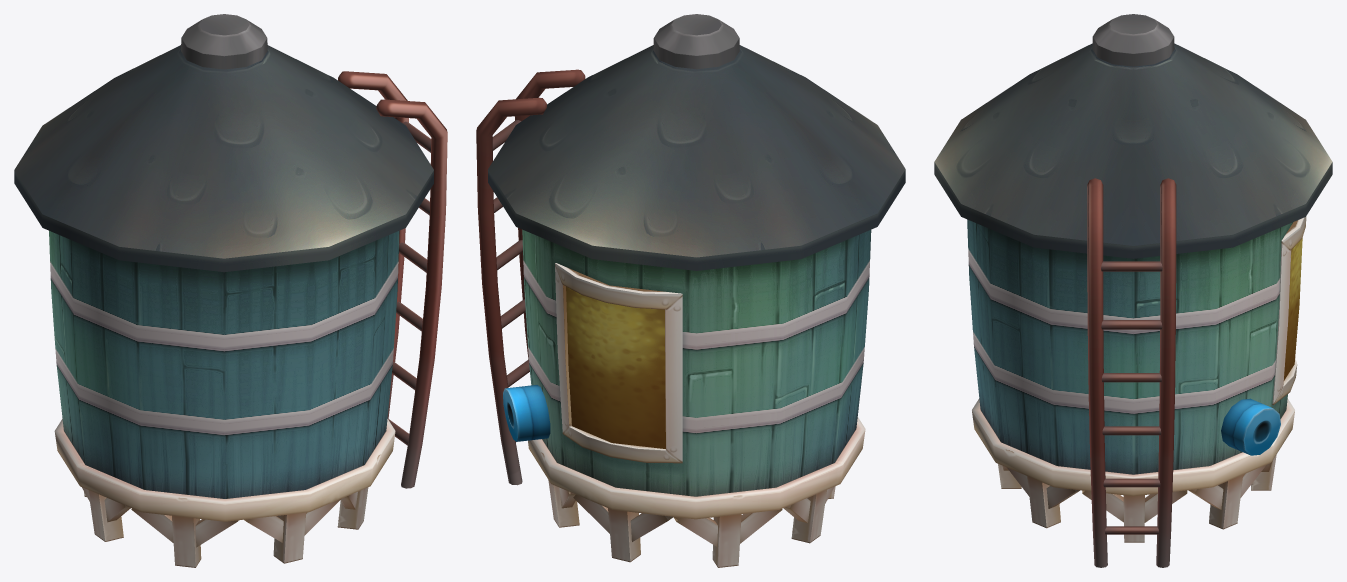
Rendered from garni.FBX.
The picture shows the model from 3 angles, left to right: view 1: azimuth 30°, elevation 25°; view 2: azimuth 150°, elevation 25°; view 3: azimuth 270°, elevation 25°; orthographic projection. The views are drawn at different scales.
Parts seen in each view (by area): view 1: garni; view 2: garni; view 3: garni.
Part boxes in pixels (box(x1,y1,x2,y2)): garni: box(14, 14, 447, 567); garni: box(476, 14, 905, 567); garni: box(934, 14, 1332, 567).
Size of the model in its own units: 172 by 209 by 163.
